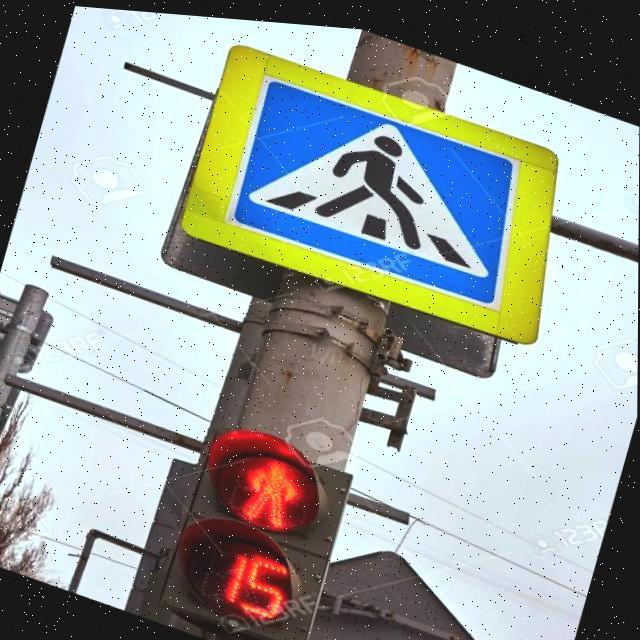red_light: (198, 442, 322, 622)
